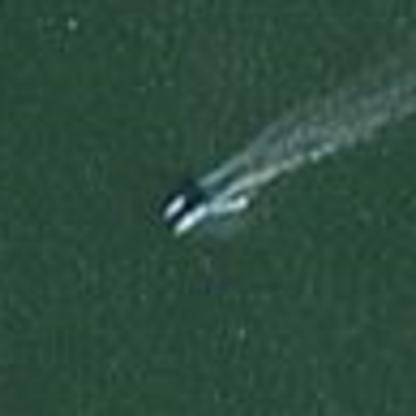ship: (152, 170, 223, 239)
